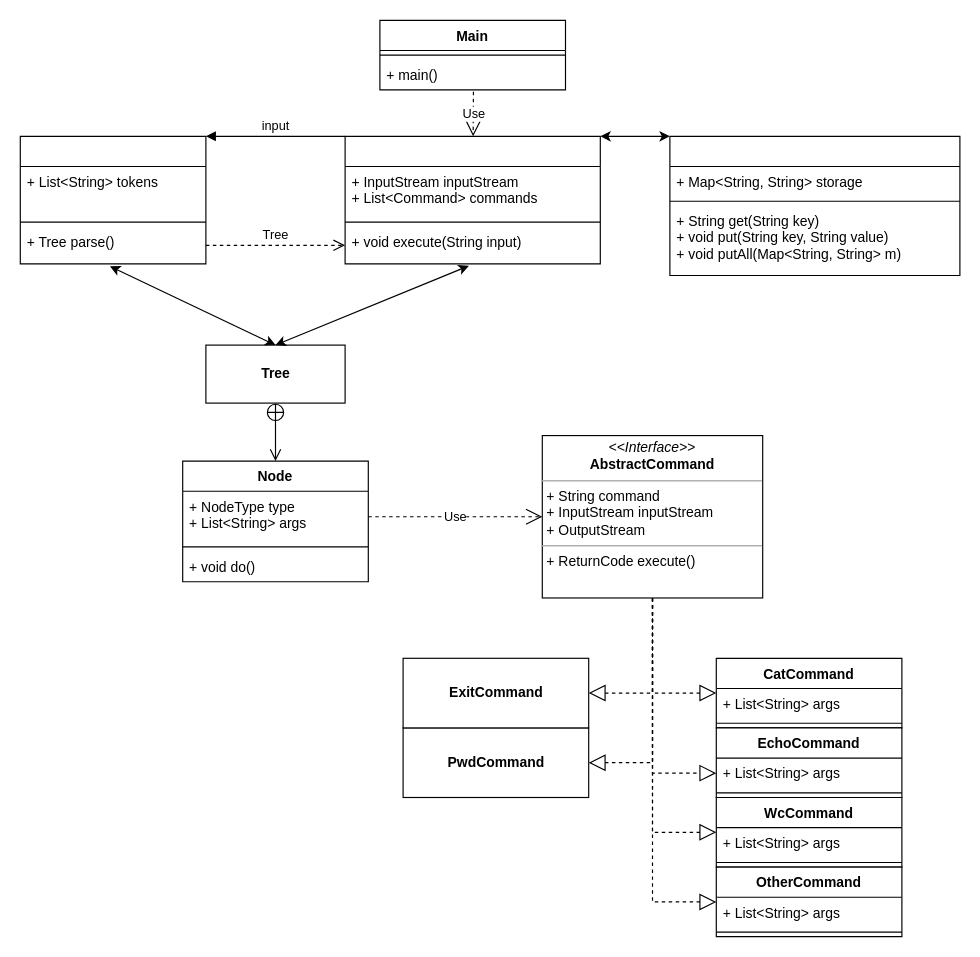
The diagram is 980 pixels wide and 957 high, and some of its shapes have lost their labels. The shapes that lost their labels are listed below. From the top down, each one's box as (x1, y1, x2, y2) in pixels, then its label:
(19, 135, 206, 264): Parser
(344, 135, 600, 264): Executor
(669, 135, 960, 276): Memory
